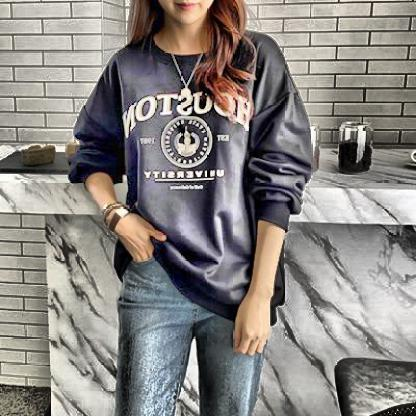sweater: (66, 26, 315, 329)
trousers: (114, 251, 271, 416)
